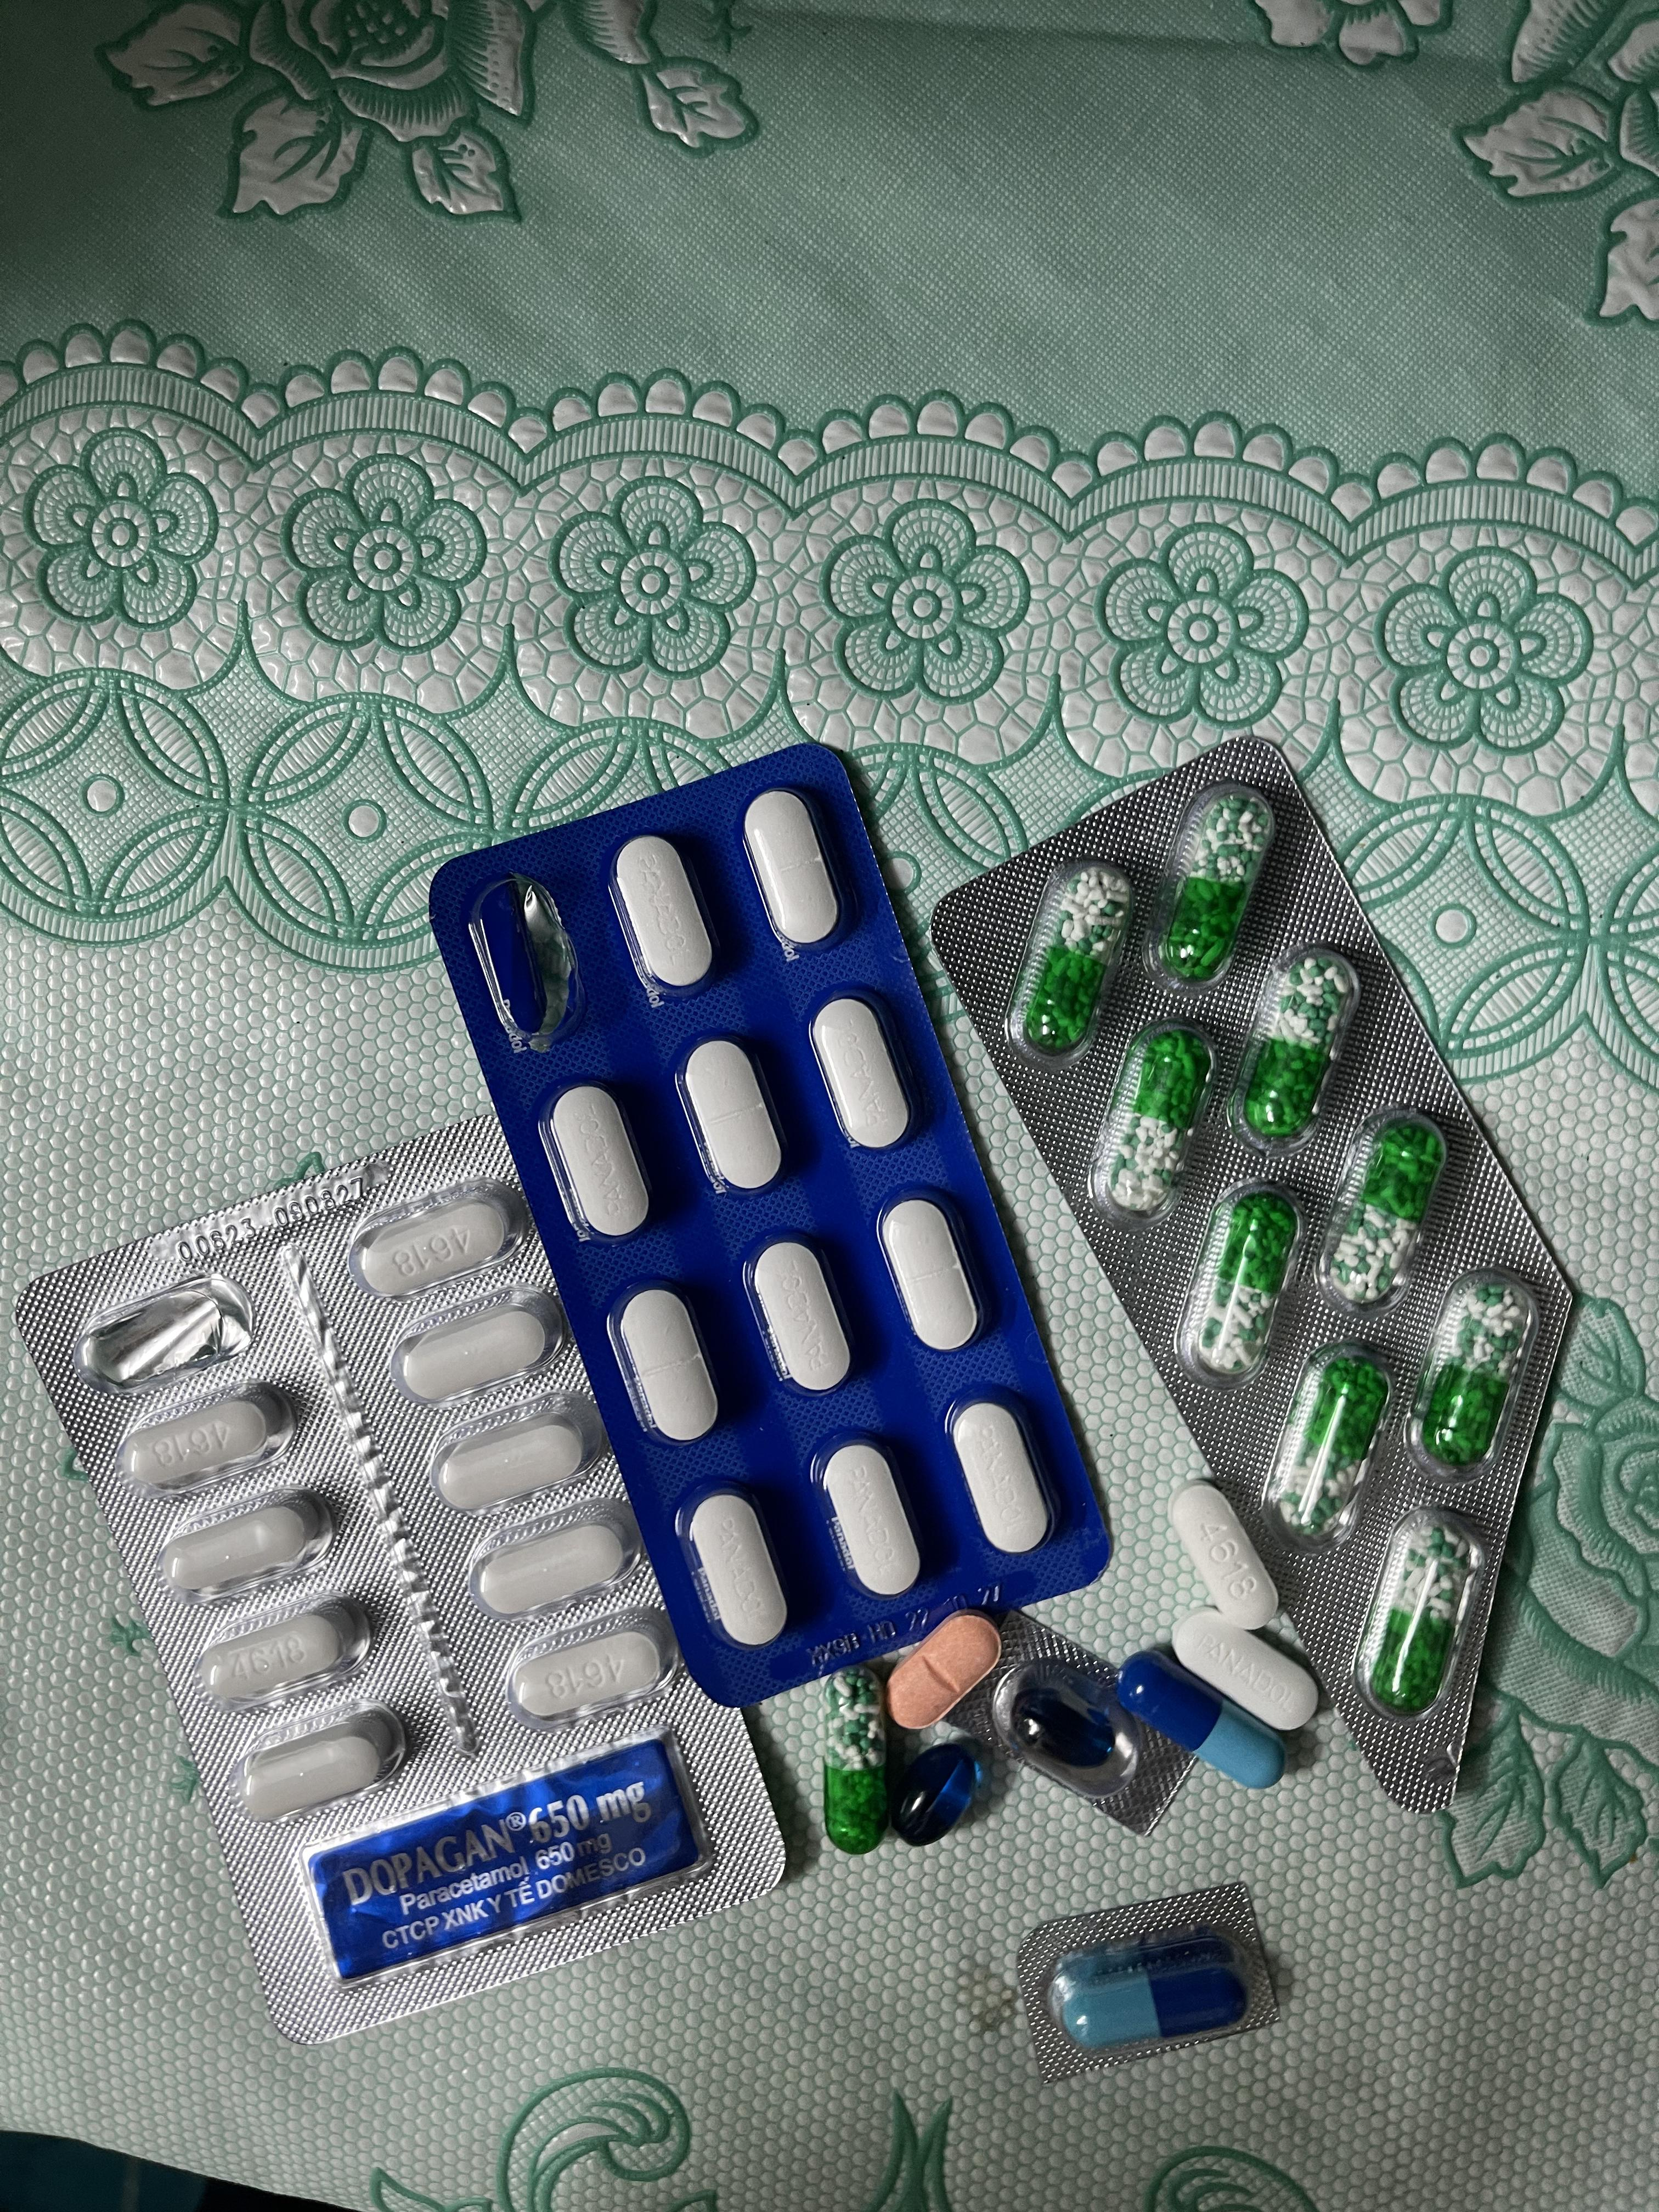Lincomyxin_500mg: (892, 1742, 981, 1846), (1016, 1686, 1114, 1766)
Loratadine_10mg: (884, 1609, 1002, 1728)
Paracetamol_350mg: (809, 1432, 927, 1601), (1171, 1608, 1323, 1730), (742, 1237, 856, 1395), (809, 995, 917, 1158), (615, 1284, 725, 1440), (678, 1038, 786, 1197), (680, 1489, 788, 1648), (948, 1395, 1054, 1555), (544, 1087, 655, 1238), (612, 836, 716, 995), (744, 791, 845, 951), (878, 1195, 981, 1350)
Paracetamol_500mg: (390, 1287, 568, 1409), (159, 1482, 336, 1604), (502, 1604, 674, 1728), (230, 1703, 404, 1824), (193, 1588, 369, 1707), (430, 1399, 603, 1519), (343, 1179, 518, 1298), (469, 1505, 636, 1623), (1169, 1482, 1283, 1629), (117, 1397, 267, 1486)
Paracetamol_650mg: (1326, 1120, 1446, 1301), (1157, 798, 1270, 982), (1107, 1029, 1218, 1216), (1025, 864, 1134, 1052), (1366, 1517, 1469, 1710), (1190, 1193, 1298, 1374), (1277, 1359, 1389, 1531), (1420, 1287, 1528, 1465), (1246, 963, 1352, 1137), (821, 1663, 887, 1853)
pill: (1122, 1646, 1286, 1792), (1058, 1928, 1251, 2048)
